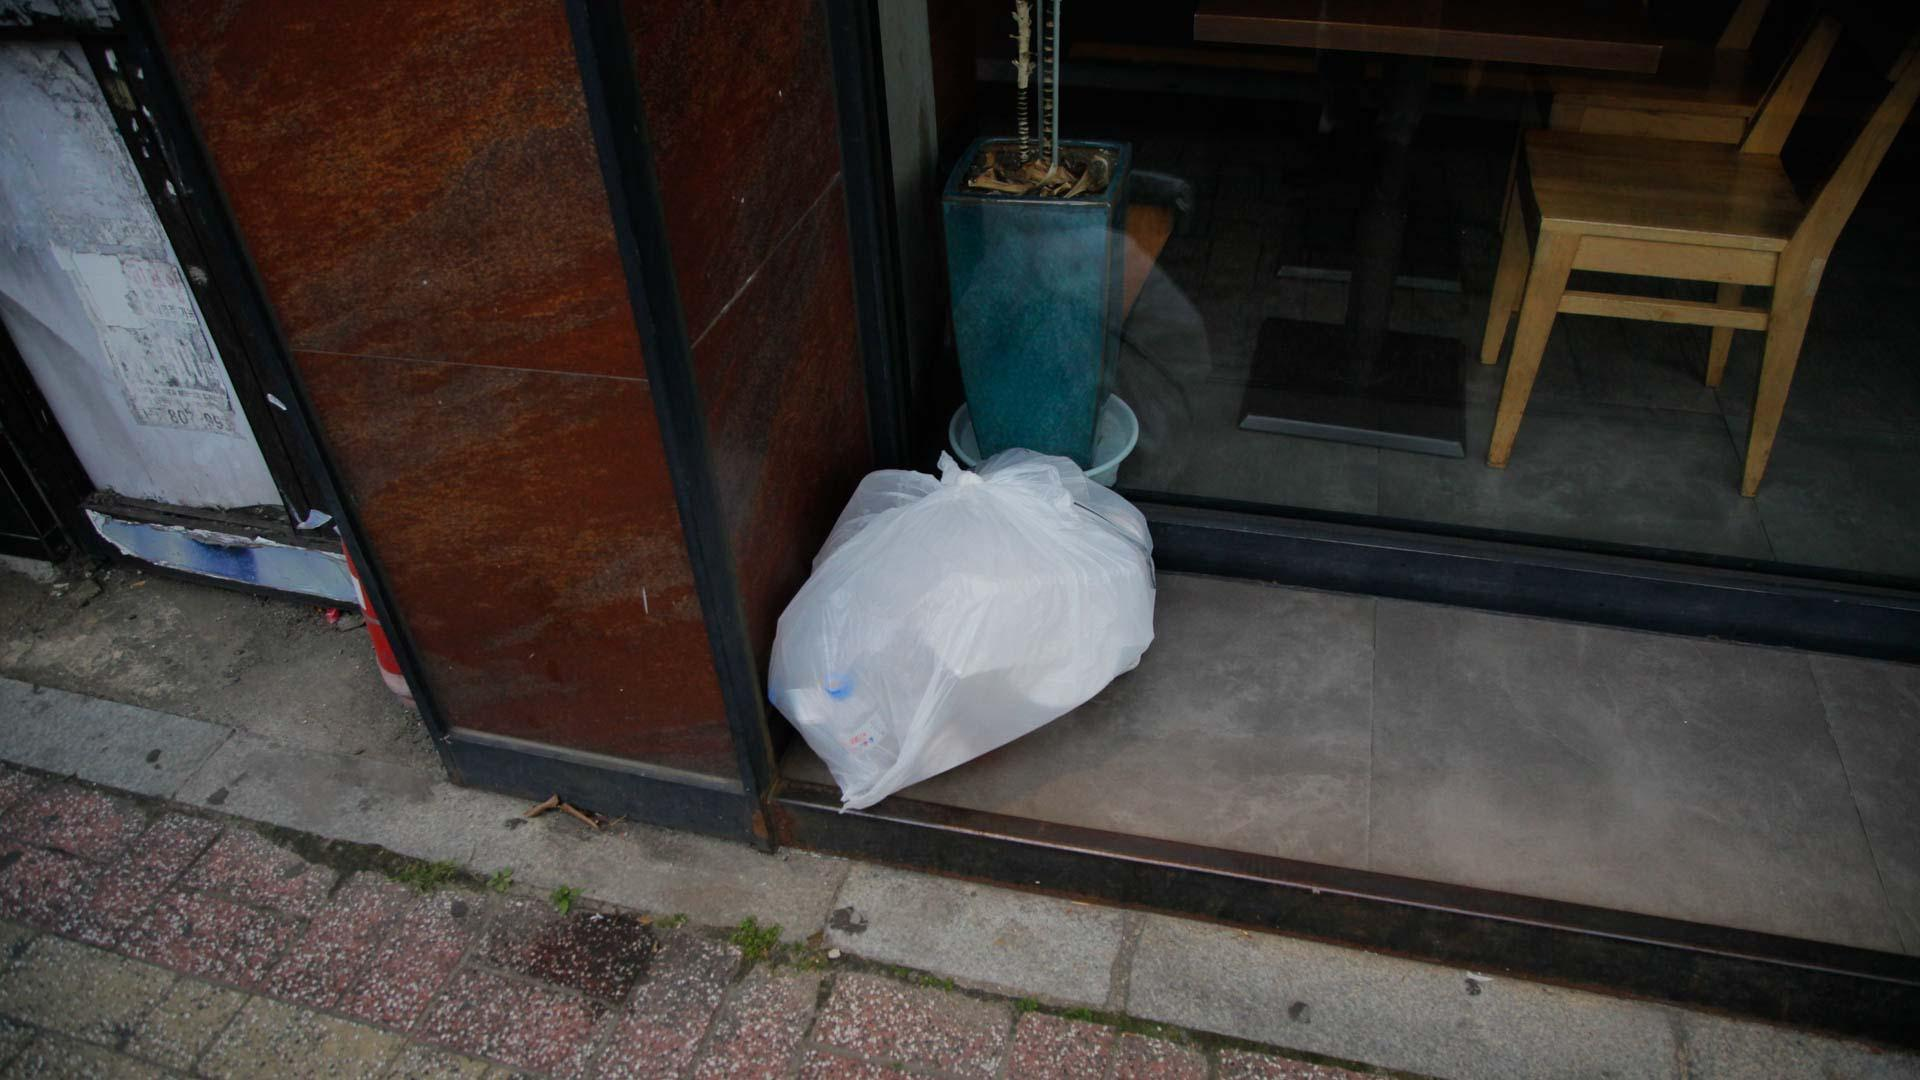white_bag: (748, 414, 1164, 837)
